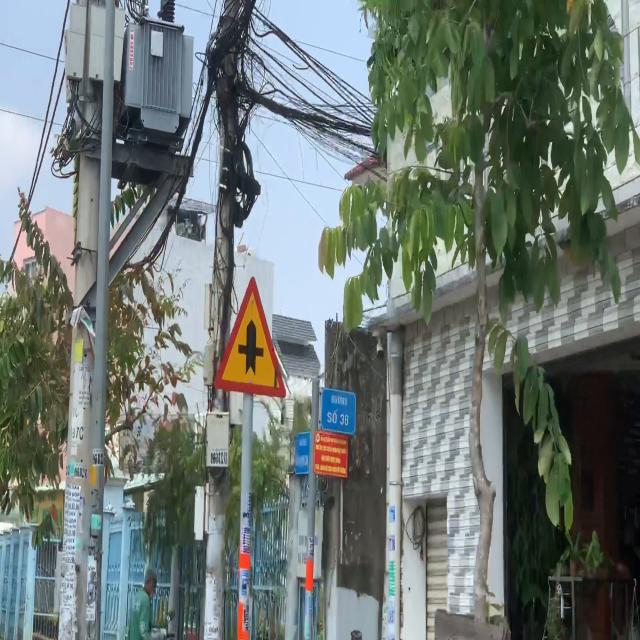Giao voi duong khong uu tien: (212, 274, 287, 401)
